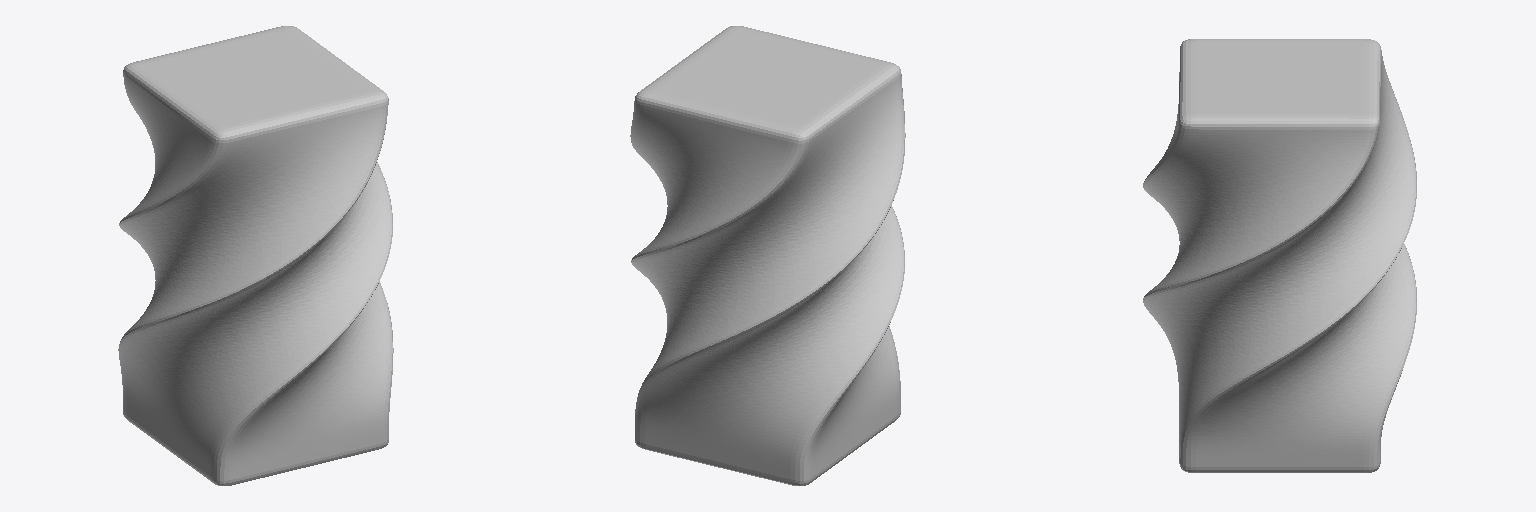
The model's file is Pillar.obj.
The picture shows the model from 3 angles: view 1: azimuth 30°, elevation 25°; view 2: azimuth 150°, elevation 25°; view 3: azimuth 270°, elevation 25°; orthographic projection.
Parts seen in each view (by area): view 1: Cube; view 2: Cube; view 3: Cube.
Boxes of the visible parts, x1,y1,x2,y2 form: Cube: [118, 26, 393, 485]; Cube: [630, 26, 905, 485]; Cube: [1143, 39, 1416, 472].
Bounding box in the file's own units: 2.72 × 3.89 × 2.72.